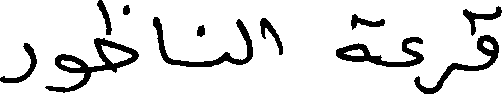ا: (260, 16, 285, 56), (150, 15, 168, 65)
ة: (333, 11, 384, 61)
ر: (0, 41, 36, 84)
ظ: (96, 0, 137, 73)
ع: (400, 35, 423, 71)
ق: (463, 3, 500, 71), (424, 56, 458, 93)
ل: (234, 16, 253, 65)
ن: (196, 25, 232, 64)
و: (44, 52, 89, 92)
